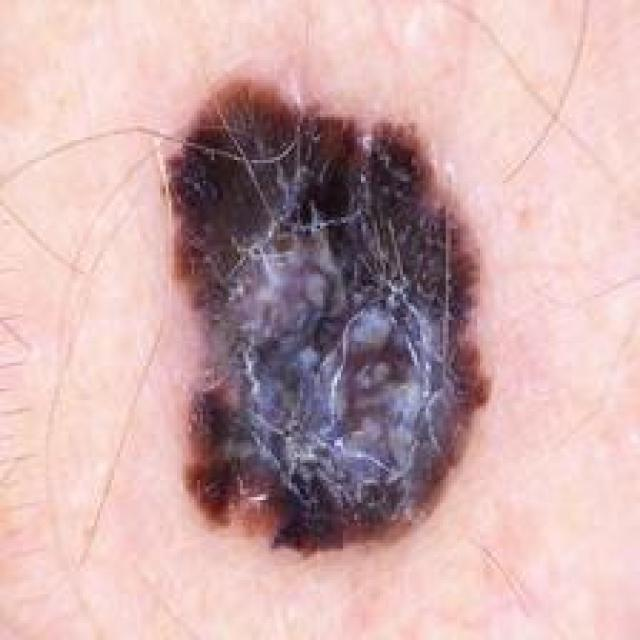Cancer: (152, 74, 492, 554)
